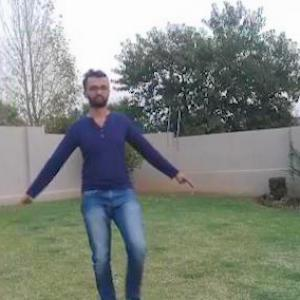land: (17, 66, 211, 299)
